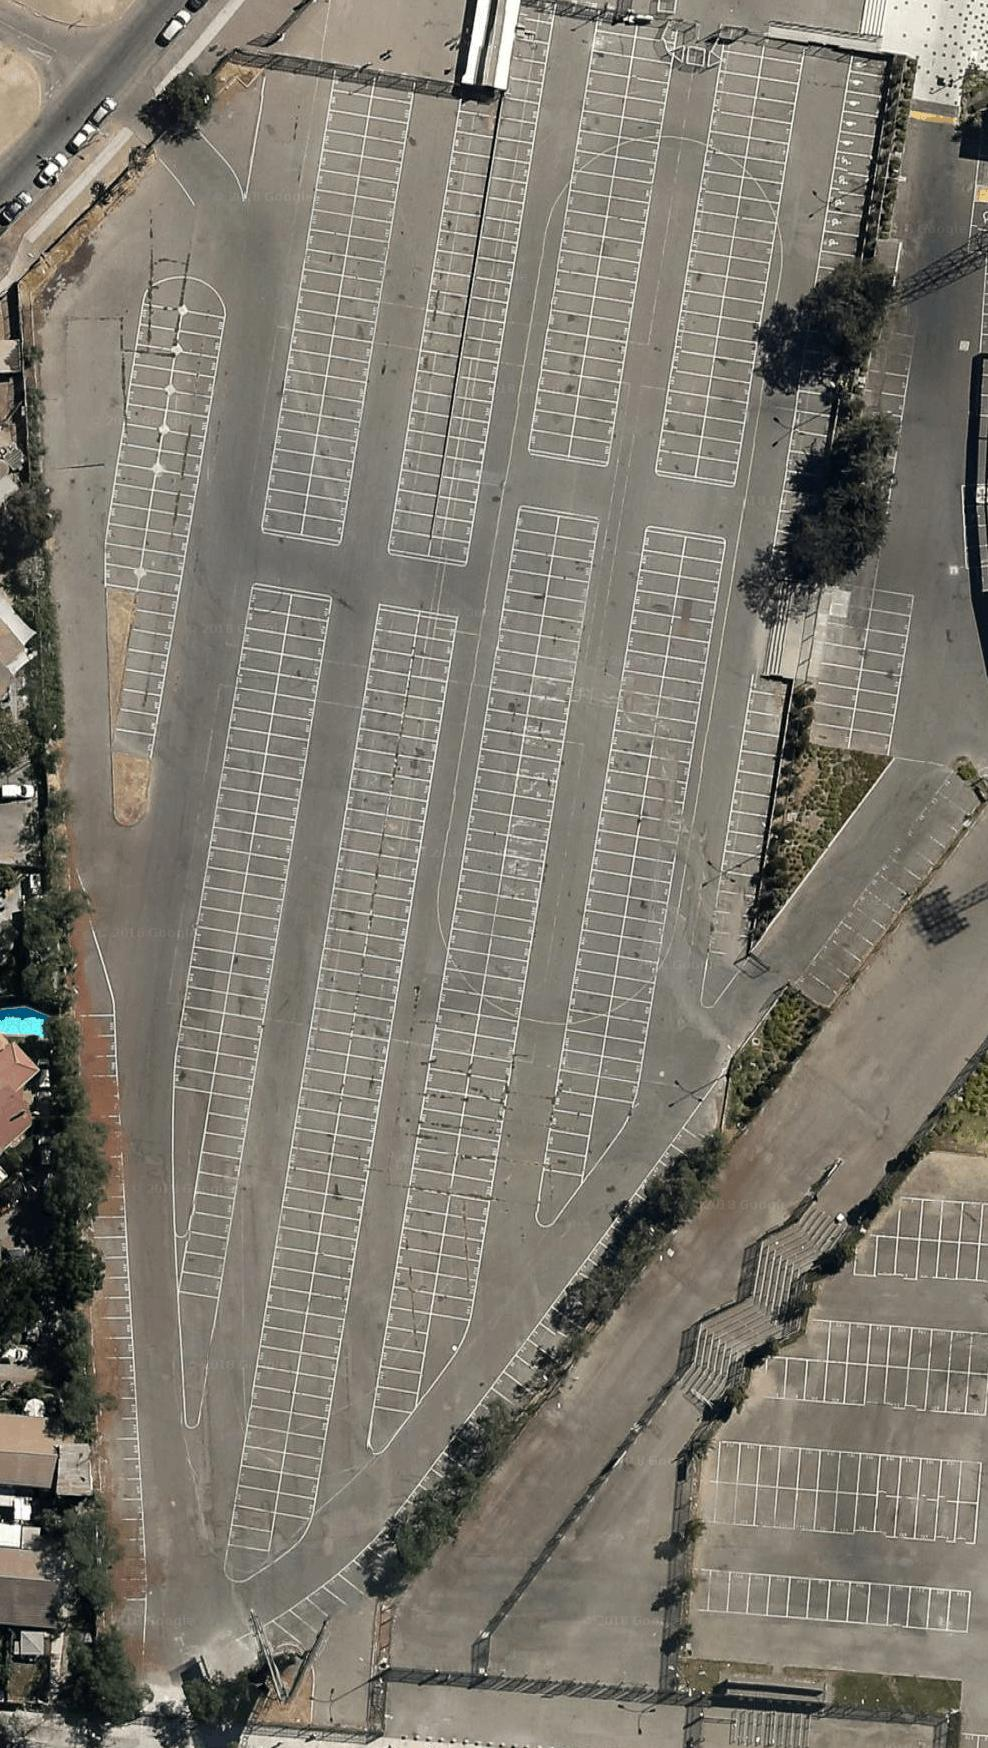parkingspot: (235, 1125, 721, 1664), (224, 607, 421, 1552), (371, 507, 561, 1415), (273, 613, 459, 1521), (429, 514, 601, 1323), (176, 593, 334, 1300), (540, 527, 689, 1178), (593, 535, 727, 1105), (429, 16, 553, 563), (172, 585, 294, 1096), (258, 67, 379, 535), (299, 74, 417, 543), (387, 89, 502, 558), (110, 311, 226, 760), (691, 54, 806, 485), (525, 26, 637, 457), (788, 770, 986, 1014), (654, 49, 764, 478), (73, 1013, 149, 1603), (567, 55, 673, 465), (707, 674, 790, 959), (103, 303, 182, 591), (687, 1566, 971, 1634), (696, 1479, 980, 1545), (715, 1438, 982, 1505), (815, 54, 890, 275), (767, 387, 842, 585), (760, 1355, 987, 1417), (846, 588, 916, 758), (807, 581, 875, 752), (806, 1317, 987, 1376), (858, 307, 920, 419), (852, 1233, 987, 1283), (896, 1196, 984, 1246)
